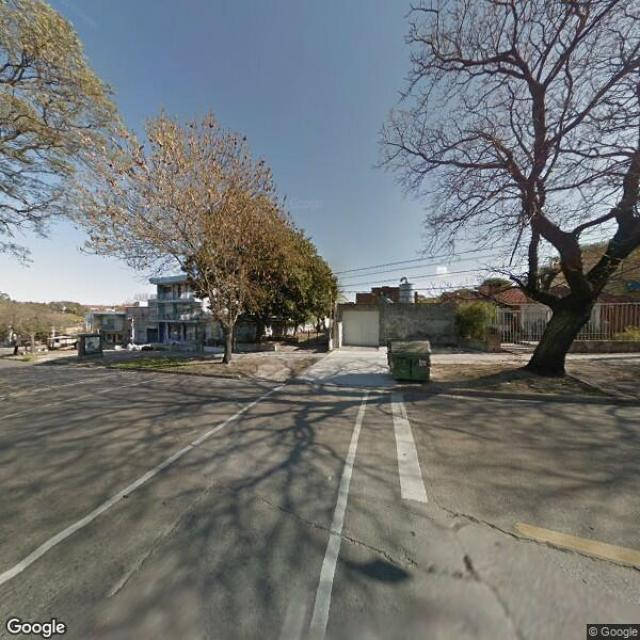garbage container: (383, 334, 440, 389)
